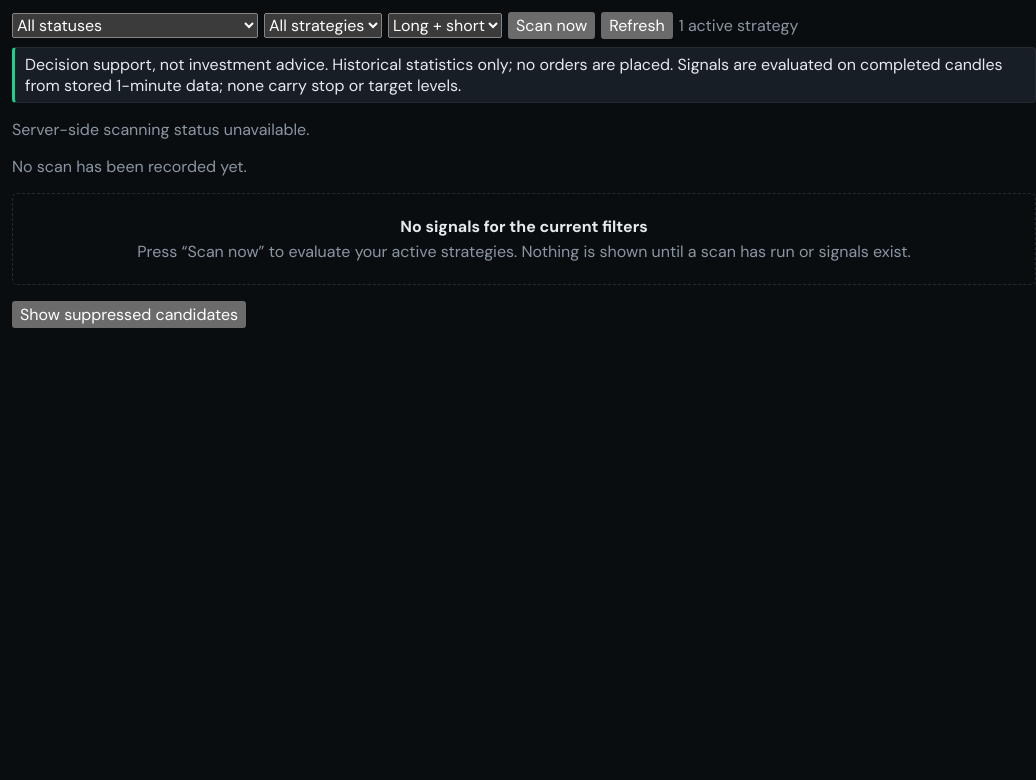
Test: scan result summary › the suppressed count opens the rejections view for that scan run
Step 1. Click the button "Scan now" → (552, 26), box 508,12 -> 595,39
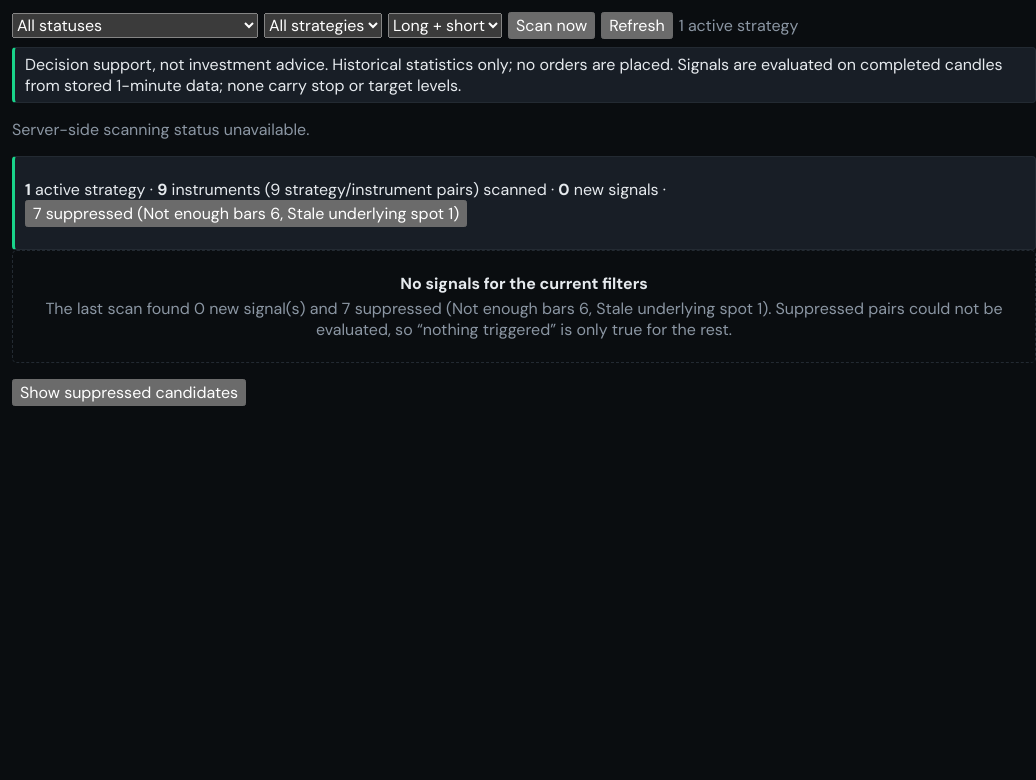
Step 2. Click the button "7 suppressed (Not enough bars 6, Stale underlying spot 1)" → (246, 214), box 25,200 -> 467,227
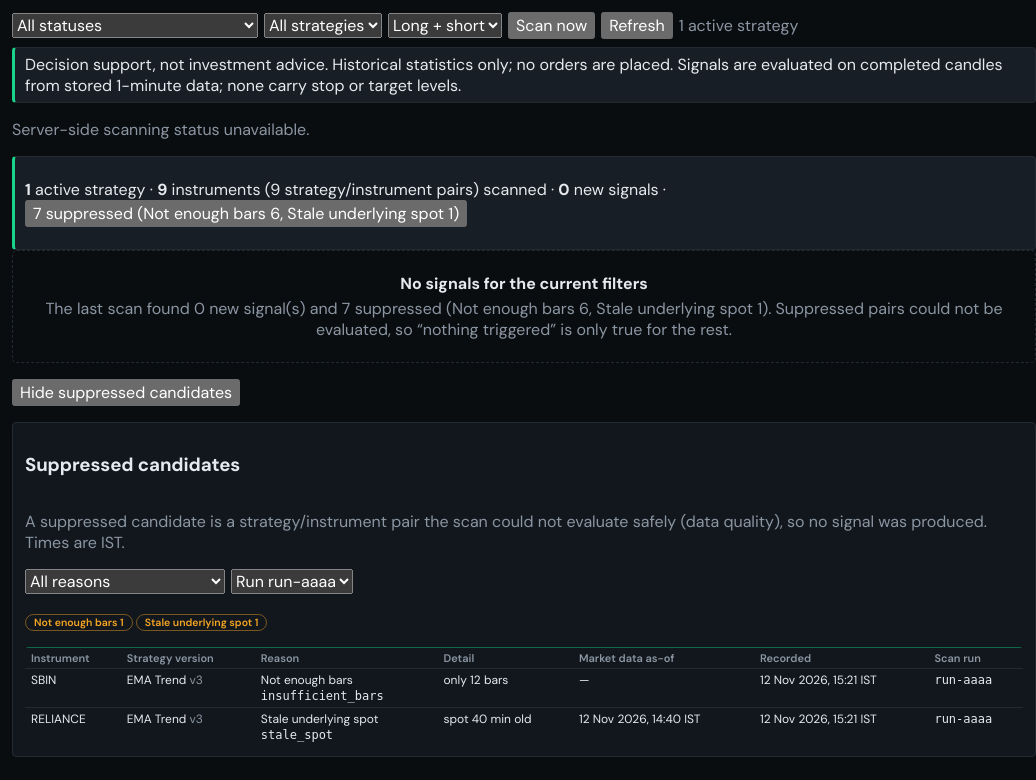
Now the element "Suppressed candidates" is shown, box 12,422 -> 1035,757
